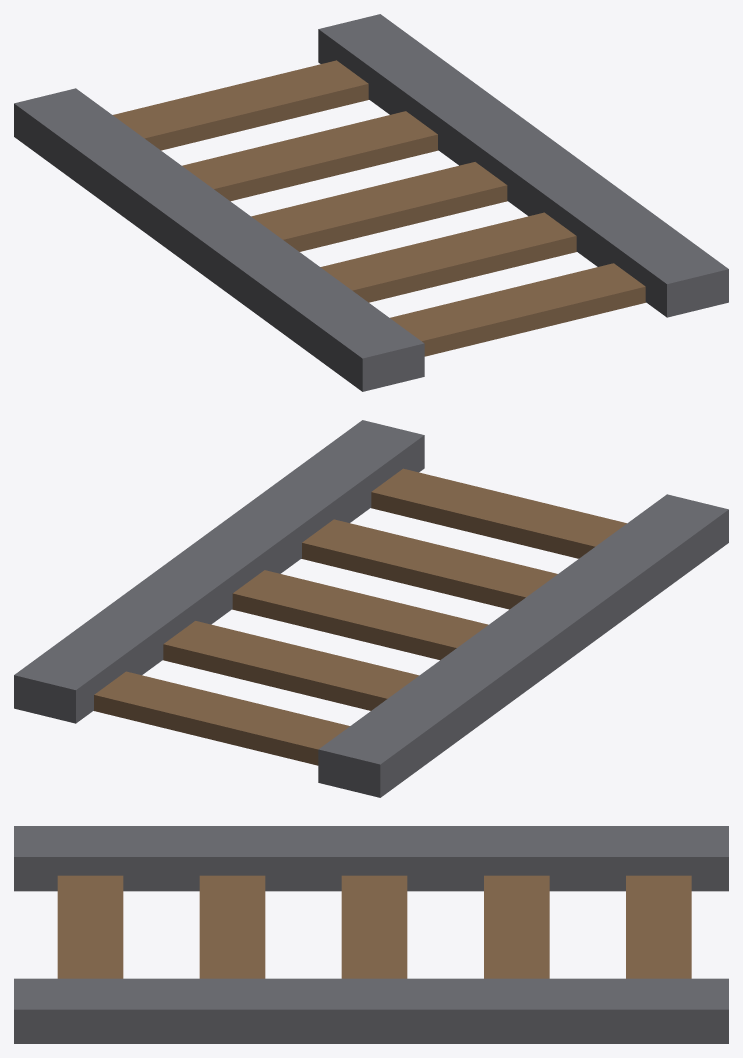
Rendered from env_crystal_track_straight.fbx.
3 views of the same model, one above another, from view 1: azimuth 30°, elevation 25°; view 2: azimuth 150°, elevation 25°; view 3: azimuth 270°, elevation 25° (orthographic). The views are drawn at different scales.
Parts seen in each view (by area): view 1: env_crystal_track_straight_geo; view 2: env_crystal_track_straight_geo; view 3: env_crystal_track_straight_geo.
Part boxes in pixels (<box>): env_crystal_track_straight_geo: <box>14,14,728,391</box>; env_crystal_track_straight_geo: <box>14,420,728,797</box>; env_crystal_track_straight_geo: <box>14,826,728,1043</box>.
Bounding box in the file's own units: 150 × 13.39 × 248.
